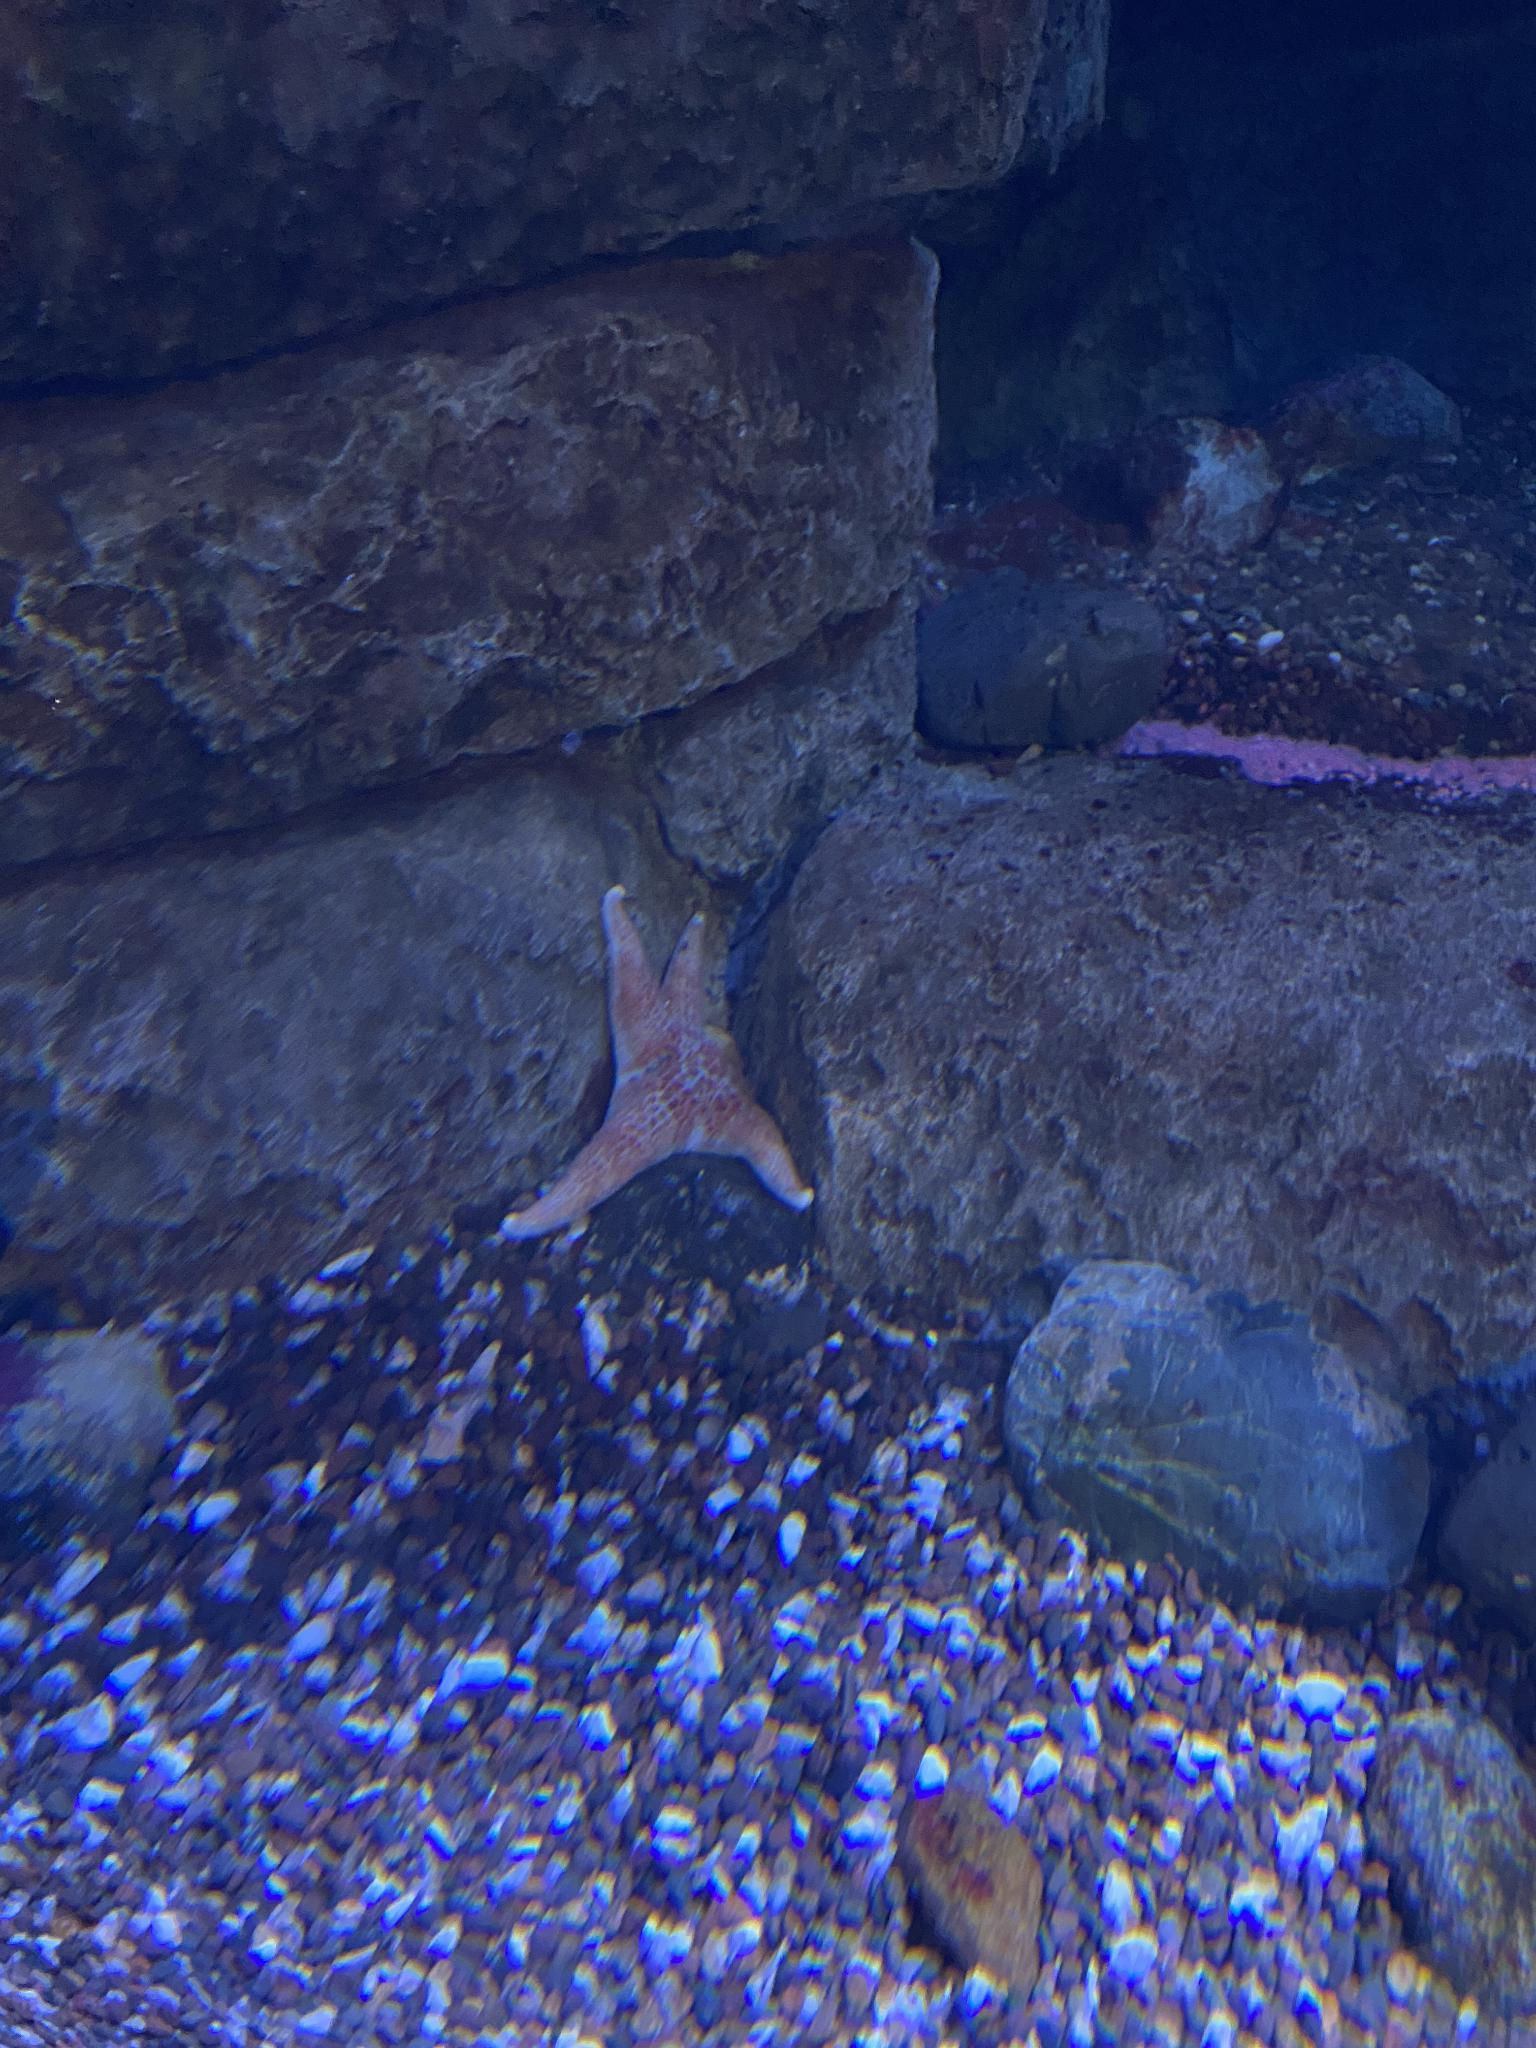starfish: (497, 894, 822, 1221)
